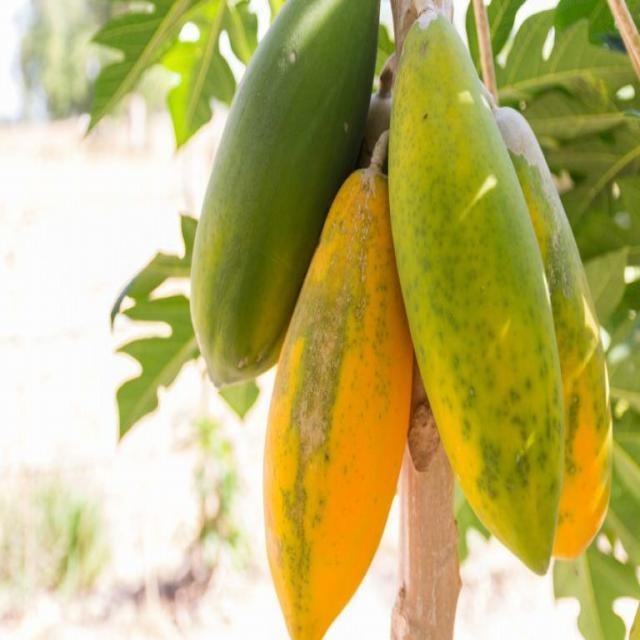Pepaya rippen: (390, 12, 558, 580), (185, 2, 363, 384), (264, 177, 398, 625), (509, 122, 618, 574)
